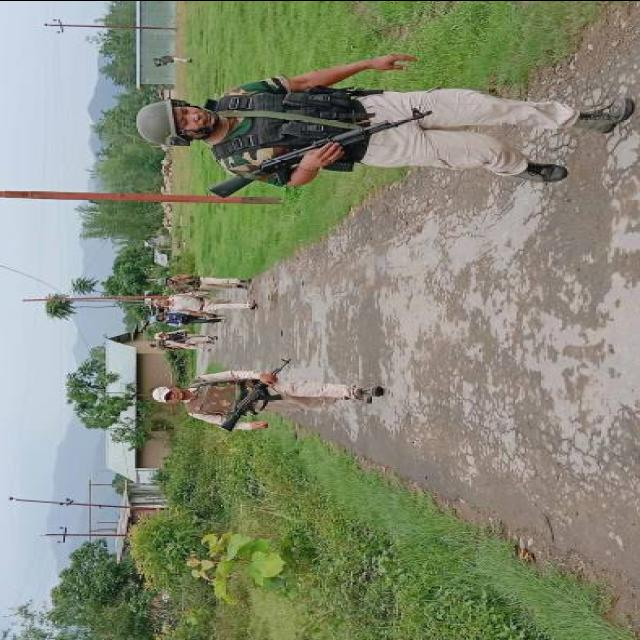civilian: (156, 311, 221, 325)
soldier: (136, 51, 632, 200), (153, 357, 382, 430), (164, 273, 253, 292), (154, 330, 218, 347), (153, 55, 192, 66)
